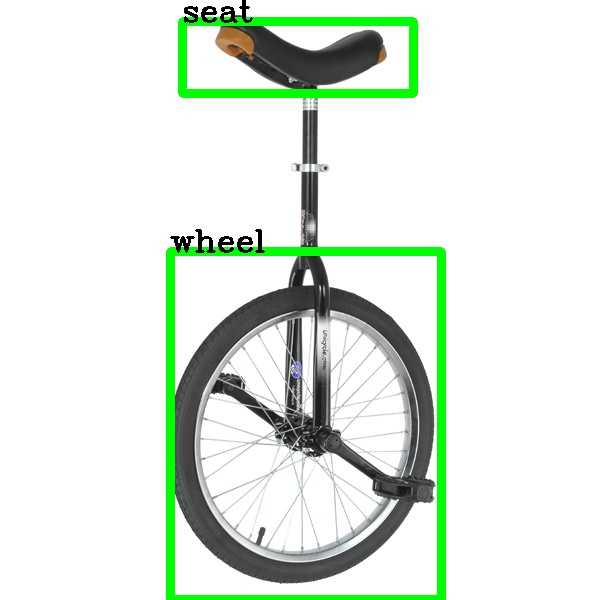seat: (182, 21, 413, 93)
wheel: (170, 251, 441, 599)
